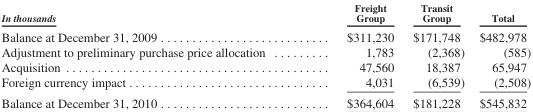table: (0, 1, 530, 109)
table column: (0, 1, 305, 109), (305, 1, 402, 109), (402, 1, 471, 109), (471, 1, 530, 109)
table column header: (0, 1, 530, 26)
table row: (0, 1, 530, 26), (0, 26, 530, 44), (0, 74, 530, 92), (0, 92, 530, 109), (0, 44, 530, 59), (0, 59, 530, 74)
